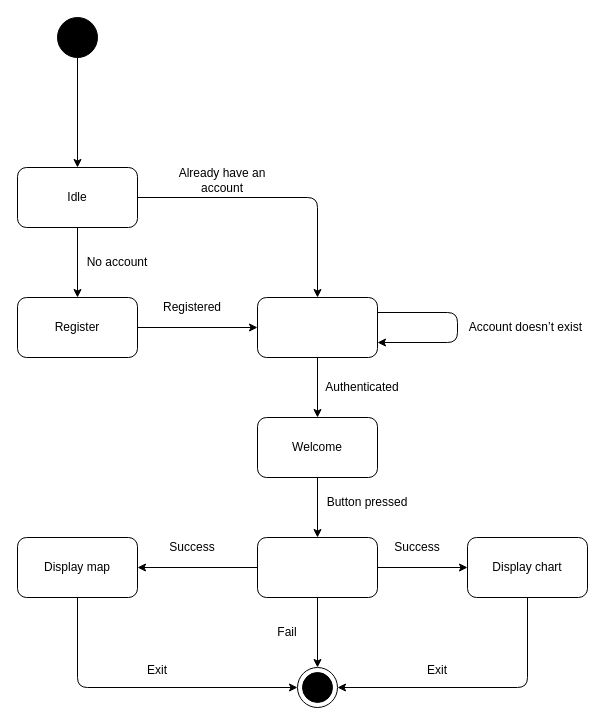
Image size: 605x725. Some labels were removed from this diagram. The centre of each missing label's shape, as x and y in pixels:
"Get data from api" belongs at point 317,567.
"Login" belongs at point 317,327.
